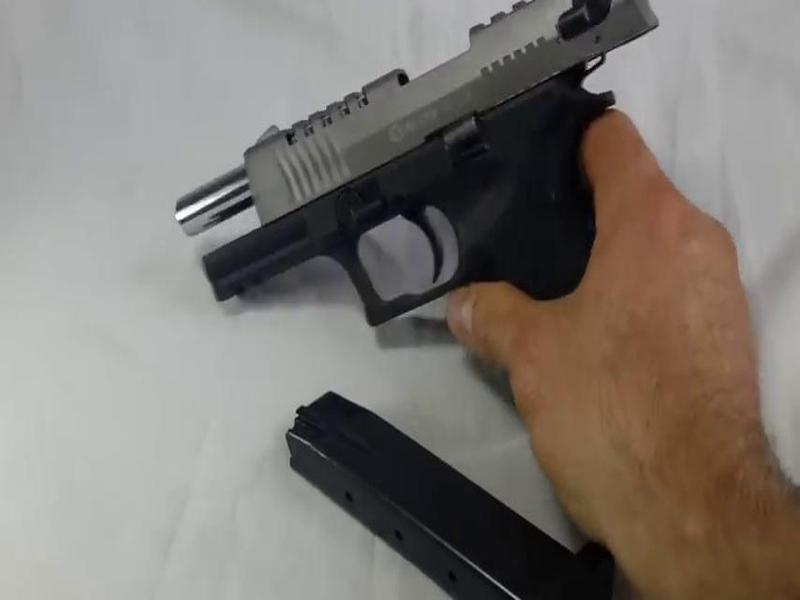Pistola: (167, 1, 658, 420)
